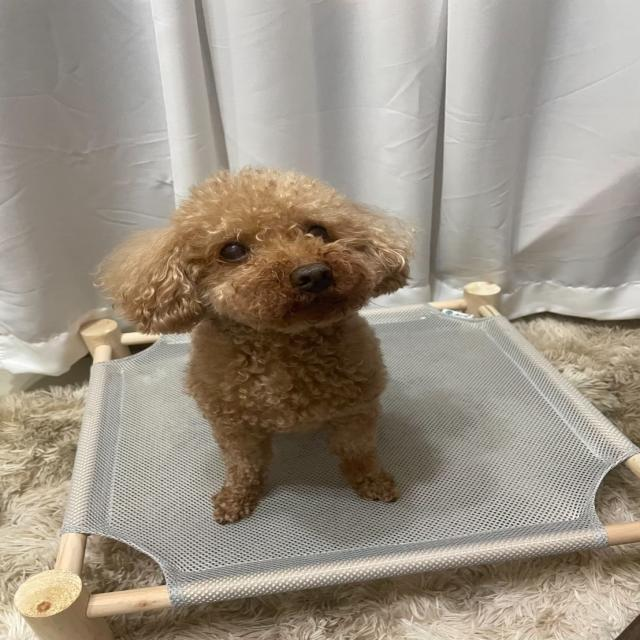adult_dog: (96, 168, 422, 527)
